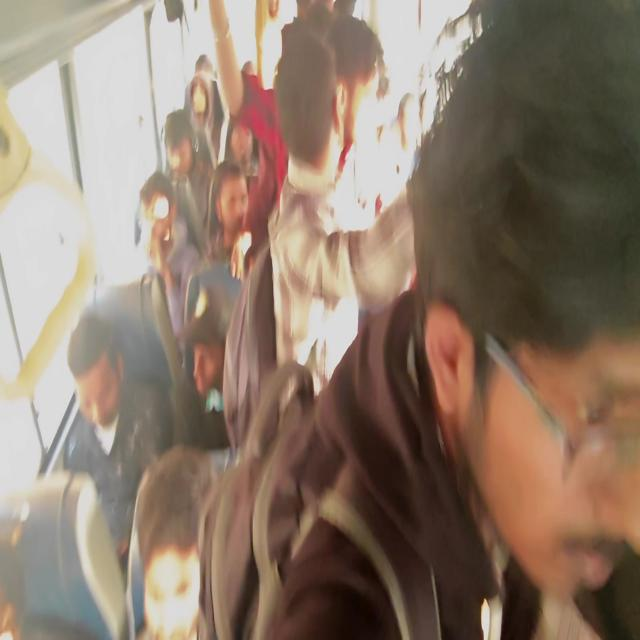person: (417, 11, 640, 634), (125, 443, 234, 640), (178, 278, 252, 440), (280, 44, 348, 210), (58, 314, 135, 440), (330, 11, 387, 152), (0, 496, 40, 639), (134, 169, 185, 281), (210, 162, 246, 246), (161, 118, 203, 189), (223, 108, 256, 194), (185, 76, 221, 143), (192, 41, 220, 93), (244, 56, 266, 110)
